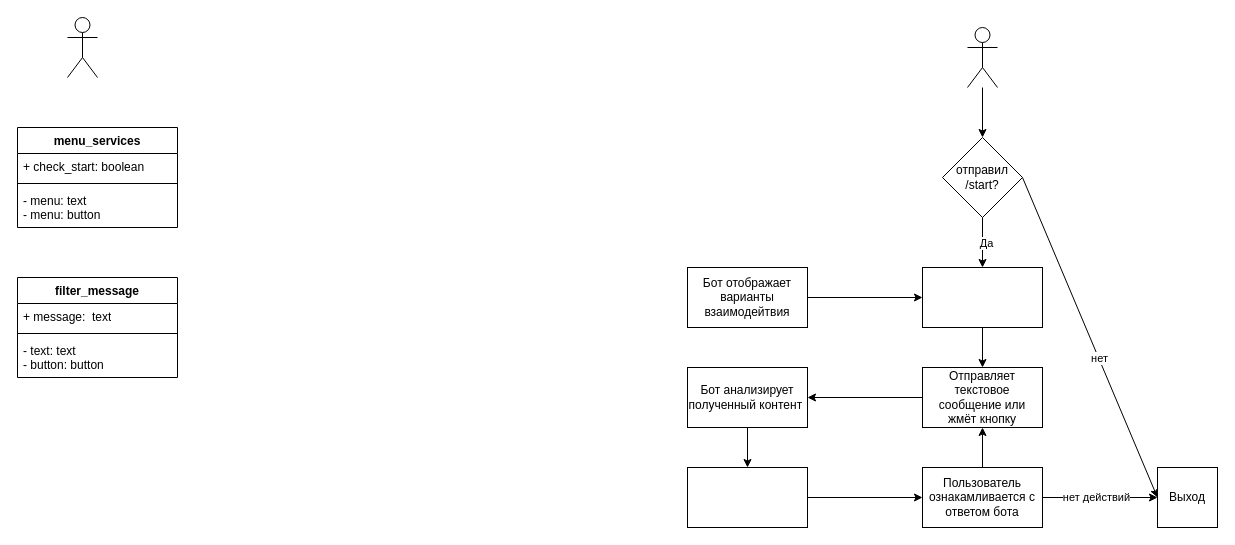
This 1235x545 diagram has some shape labels left out. Each missing label, with the centre of its shape:
"Actor" belongs at [982,57].
"User" belongs at [82,47].
"Открывает чат с ботом" belongs at [982,297].
"Формирует ответ и направляет его пользователю" belongs at [747,497].
